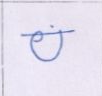anusvara: (50, 25, 54, 28)
